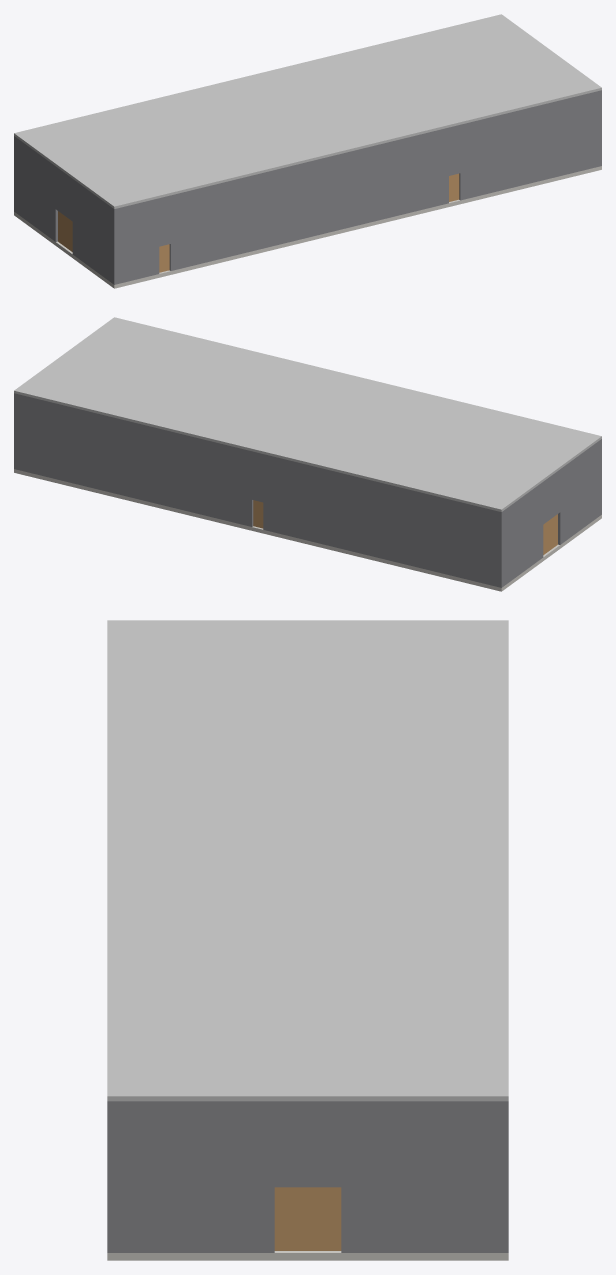
The model's file is wing_cinema.glb.
The picture shows the model from 3 angles, top to bottom: view 1: azimuth 30°, elevation 25°; view 2: azimuth 150°, elevation 25°; view 3: azimuth 270°, elevation 25°; orthographic projection. The views are drawn at different scales.
Parts seen in each view (by area): view 1: Wing_Ceiling, Wing_Wall_N_3, Wing_Wall_N_1, Wing_Wall_N_5, Wing_Wall_E_3, Wing_Wall_E_1, Wing_Floor, Wing_Wall_E_2, Wing_Wall_N_4, Wing_Wall_N_2; view 2: Wing_Ceiling, Wing_Wall_S_3, Wing_Wall_S_1, Wing_Wall_E_1, Wing_Wall_E_3, Wing_Floor, Wing_Wall_E_2, Wing_Wall_S_2; view 3: Wing_Ceiling, Wing_Wall_W_1, Wing_Wall_W_3, Wing_Wall_W_2, Wing_Floor, DoorLeaf_entrance_A, DoorLeaf_entrance_B, Wing_Wall_N_1, Wing_Wall_S_1.
Part boxes in pixels (x1,y1,x2,y2): Wing_Ceiling: (14, 14, 601, 208); Wing_Wall_N_3: (169, 127, 448, 270); Wing_Wall_N_1: (459, 90, 601, 200); Wing_Wall_N_5: (113, 198, 159, 284); Wing_Wall_E_3: (15, 137, 57, 241); Wing_Wall_E_1: (72, 179, 112, 283); Wing_Floor: (14, 166, 601, 288); Wing_Wall_E_2: (55, 166, 72, 221); Wing_Wall_N_4: (159, 195, 170, 246); Wing_Wall_N_2: (449, 125, 460, 175); Wing_Ceiling: (14, 317, 601, 511); Wing_Wall_S_3: (263, 454, 502, 587); Wing_Wall_S_1: (14, 393, 253, 526); Wing_Wall_E_1: (558, 440, 600, 544); Wing_Wall_E_3: (503, 482, 543, 586); Wing_Floor: (14, 469, 601, 591); Wing_Wall_E_2: (543, 469, 560, 524); Wing_Wall_S_2: (252, 451, 263, 502); Wing_Ceiling: (107, 620, 508, 1101); Wing_Wall_W_1: (113, 1101, 274, 1252); Wing_Wall_W_3: (341, 1101, 502, 1252); Wing_Wall_W_2: (274, 1101, 341, 1187); Wing_Floor: (107, 1251, 508, 1260); DoorLeaf_entrance_A: (274, 1187, 307, 1250); DoorLeaf_entrance_B: (308, 1187, 341, 1250); Wing_Wall_N_1: (107, 1101, 112, 1252); Wing_Wall_S_1: (503, 1101, 508, 1252).
Size of the model in its own units: 40.4 by 6.5 by 14.4.
